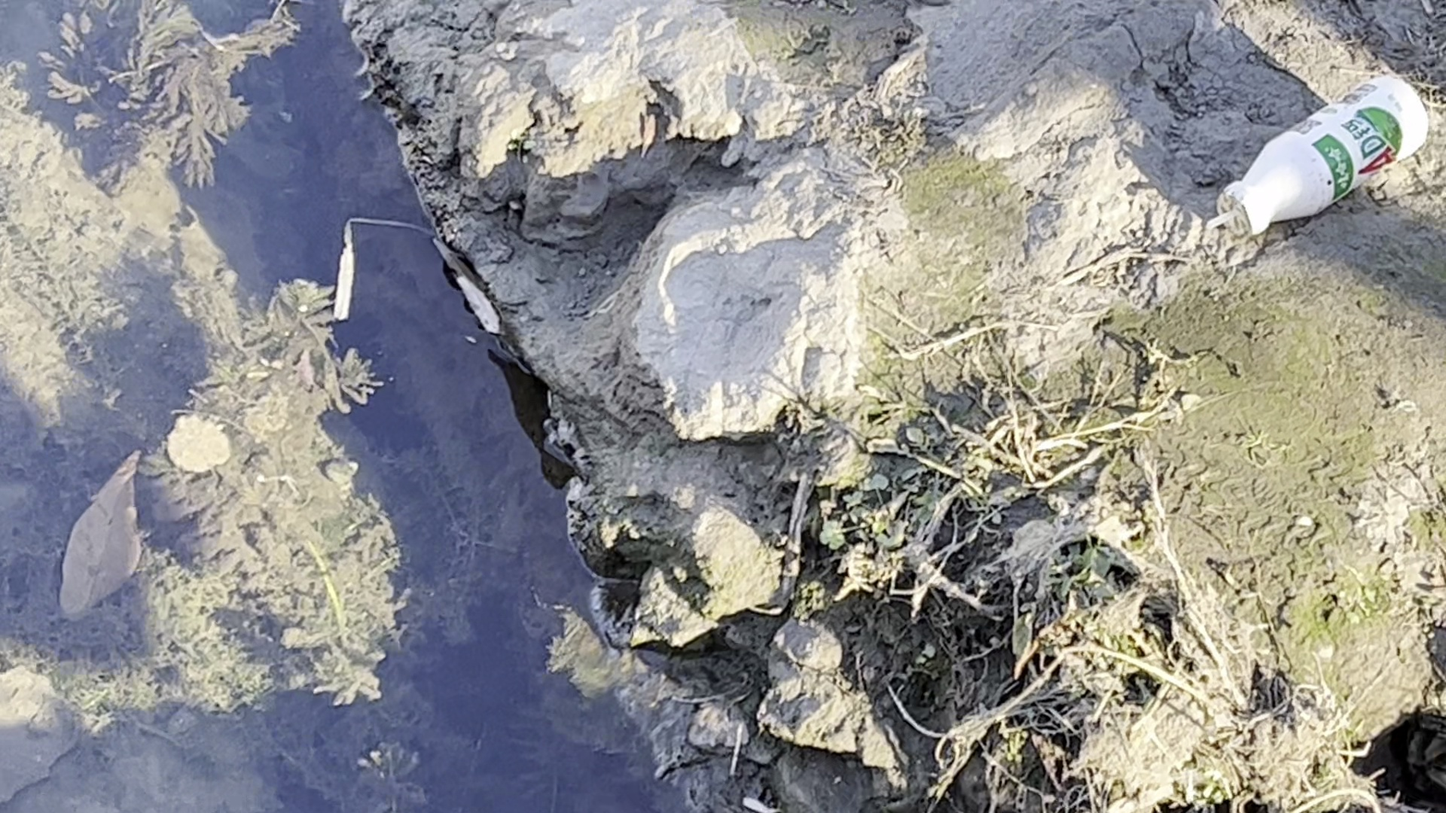floating_object: (1204, 75, 1429, 237)
